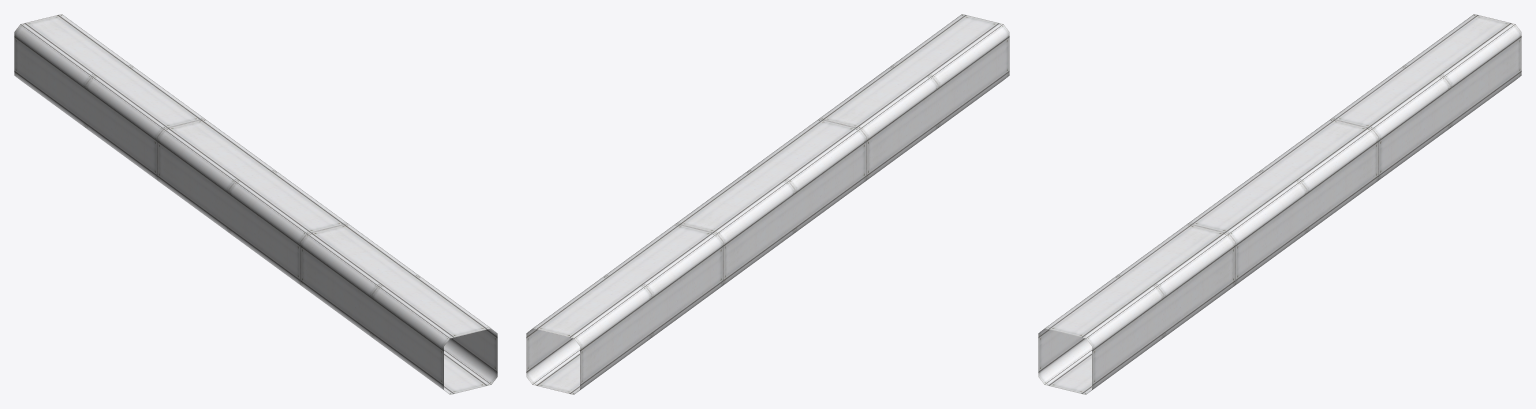
Rendered from CeilingBrace_1x18cappedB.FBX.
The picture shows the model from 3 angles, left to right: view 1: azimuth 30°, elevation 25°; view 2: azimuth 150°, elevation 25°; view 3: azimuth 330°, elevation 25°; orthographic projection.
Parts seen in each view (by area): view 1: CeilingBrace_1x18cappedB; view 2: CeilingBrace_1x18cappedB; view 3: CeilingBrace_1x18cappedB.
Part boxes in pixels (x1,y1,x2,y2): CeilingBrace_1x18cappedB: (14,14,497,394); CeilingBrace_1x18cappedB: (526,14,1009,394); CeilingBrace_1x18cappedB: (1038,14,1521,394).
Size of the model in its own units: 1.3 by 1.3 by 18.
